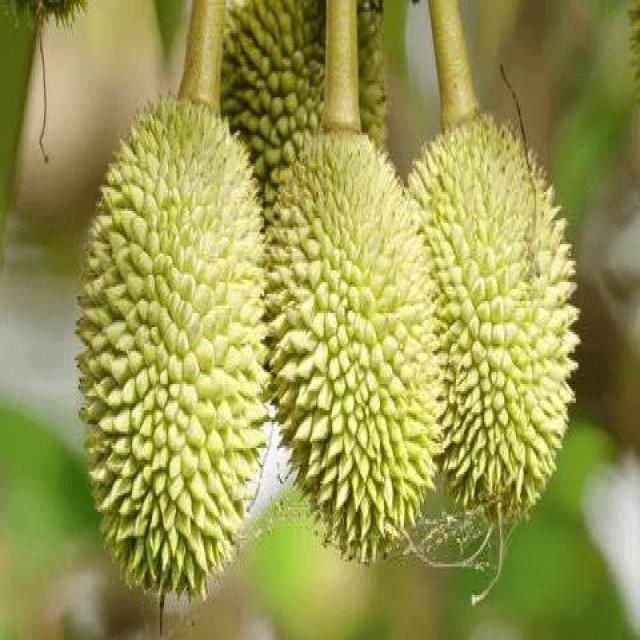immature: (76, 88, 273, 604), (260, 125, 448, 570), (403, 112, 580, 560)
